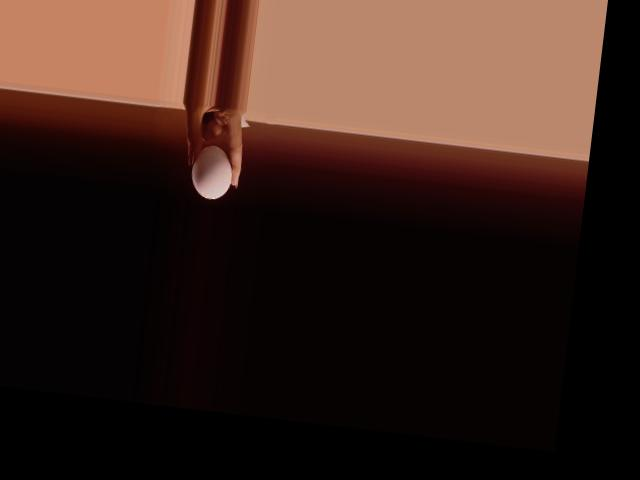egg: (188, 142, 234, 200)
